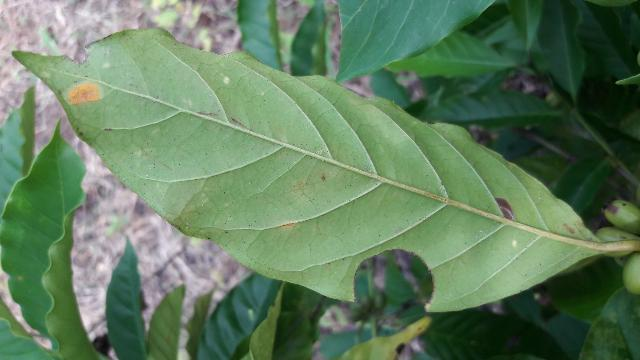rust_level_1: (22, 27, 608, 312)
